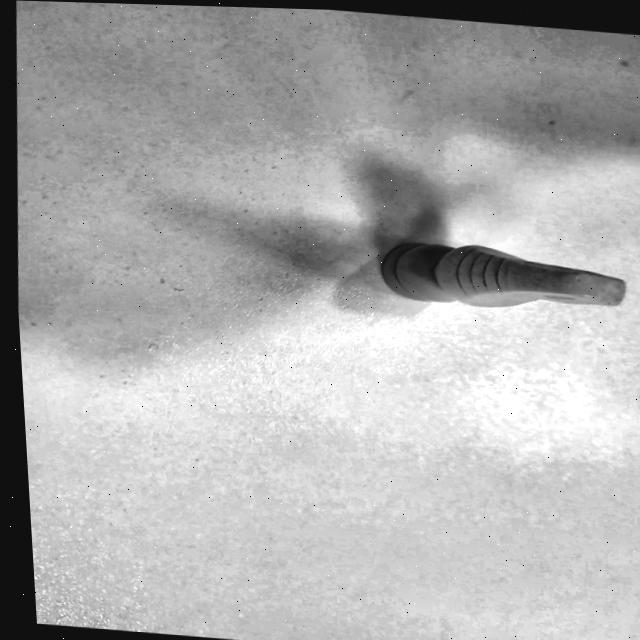white-knight: (351, 209, 640, 341)
